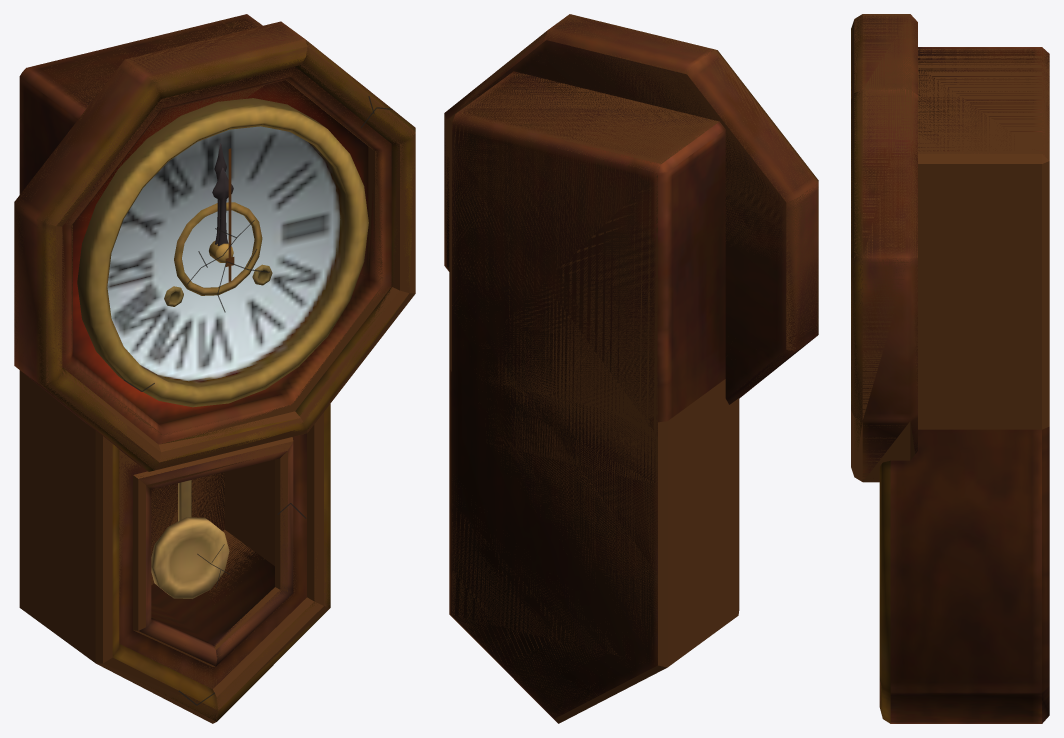
File: memento-clock.glb
3 views of the same model, side by side, from view 1: azimuth 30°, elevation 25°; view 2: azimuth 150°, elevation 25°; view 3: azimuth 270°, elevation 25° (orthographic). The views are drawn at different scales.
Parts seen in each view (by area): view 1: Clock_Dial_Normal, Clock_Frame_Normal, Clock_Case_Normal, Clock_Case_Piece_10, Clock_Case_Piece_11, Clock_Case_Piece_14, Clock_Case_Piece_07, Pendulum, Clock_Case_Piece_06, Clock_Case_Piece_04, Clock_Case_Piece_03, Clock_Case_Piece_05 (+8 smaller); view 2: Clock_Case_Normal, Clock_Case_Piece_09, Clock_Frame_Normal, Clock_Case_Piece_10, Clock_Case_Piece_11, Clock_Case_Piece_07, Clock_Case_Piece_08, Clock_Case_Piece_14, Clock_Case_Piece_06, Clock_Case_Piece_01; view 3: Clock_Case_Normal, Clock_Case_Piece_09, Clock_Frame_Normal, Clock_Case_Piece_06, Clock_Case_Piece_05, Clock_Case_Piece_07, Clock_Case_Piece_04, Clock_Case_Piece_03.
Boxes of the visible parts, x1,y1,x2,y2 form: Clock_Dial_Normal: (77,98,368,407); Clock_Frame_Normal: (14,21,415,471); Clock_Case_Normal: (19,14,330,721); Clock_Case_Piece_10: (19,370,145,663); Clock_Case_Piece_11: (224,412,329,606); Clock_Case_Piece_14: (96,472,329,723); Clock_Case_Piece_07: (20,39,304,223); Pendulum: (151,480,229,598); Clock_Case_Piece_06: (127,22,414,140); Clock_Case_Piece_04: (296,140,415,427); Clock_Case_Piece_03: (158,287,398,469); Clock_Case_Piece_05: (79,50,415,285); Clock_Case_Normal: (449,71,725,722); Clock_Case_Piece_09: (449,73,719,422); Clock_Frame_Normal: (444,14,818,404); Clock_Case_Piece_10: (486,379,739,667); Clock_Case_Piece_11: (452,406,656,657); Clock_Case_Piece_07: (561,14,798,201); Clock_Case_Piece_08: (447,50,818,341); Clock_Case_Piece_14: (449,614,666,723); Clock_Case_Piece_06: (447,14,785,202); Clock_Case_Piece_01: (741,186,818,392); Clock_Case_Normal: (879,47,1049,723); Clock_Case_Piece_09: (918,47,1049,429); Clock_Frame_Normal: (851,14,917,482); Clock_Case_Piece_06: (851,15,917,255); Clock_Case_Piece_05: (851,90,917,419); Clock_Case_Piece_07: (852,14,917,92); Clock_Case_Piece_04: (851,264,917,481); Clock_Case_Piece_03: (851,412,915,482).
Bounding box in the file's own units: 0.1455 × 0.2492 × 0.068.
Materials: 3 (2 with a texture image).
